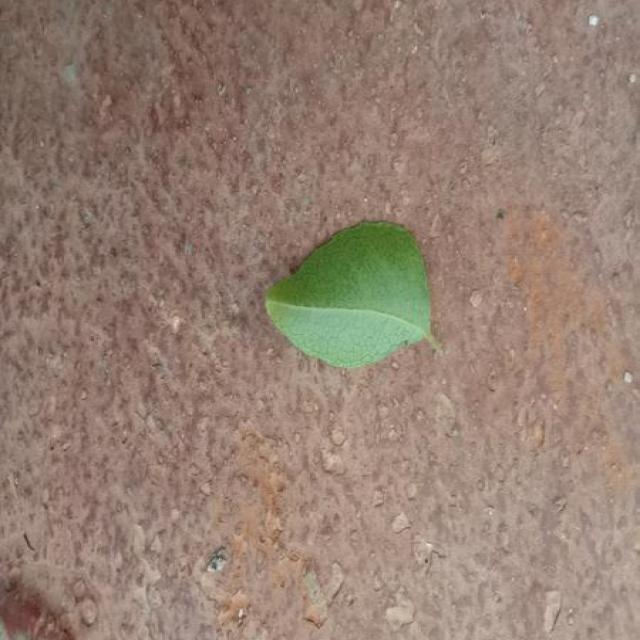curry: (267, 221, 438, 367)
